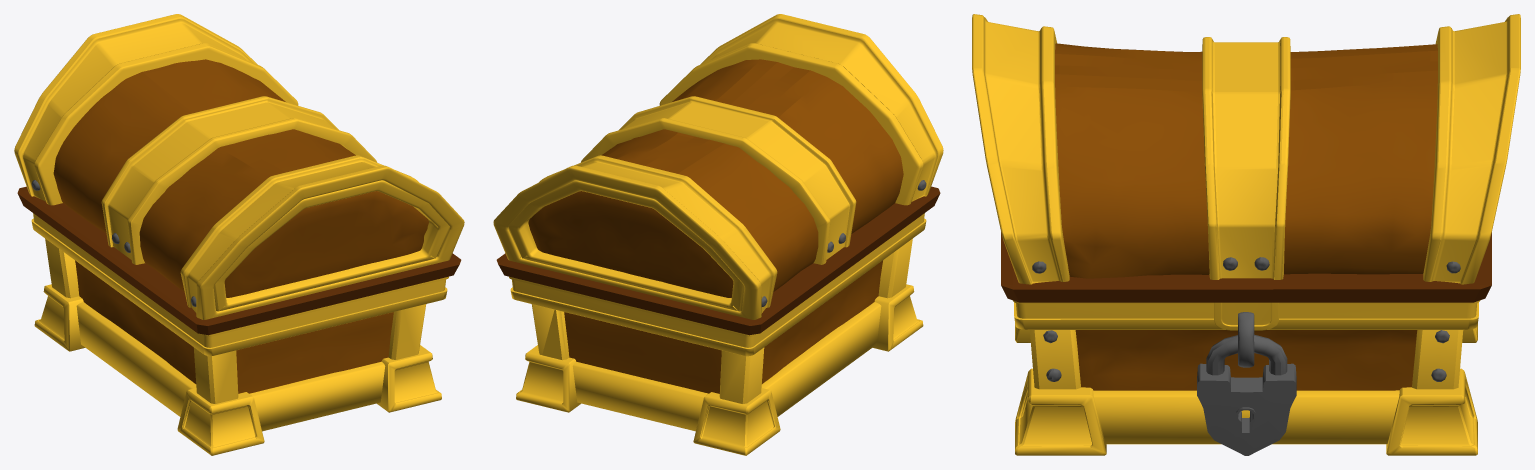
File: Forziere.fbx
3 views of the same model, side by side, from view 1: azimuth 30°, elevation 25°; view 2: azimuth 150°, elevation 25°; view 3: azimuth 270°, elevation 25° (orthographic). The views are drawn at different scales.
Visible parts, largest first — view 1: baule; view 2: baule; view 3: baule.
Boxes of the visible parts, <box> form: baule: <box>14,14,464,455</box>; baule: <box>493,14,943,455</box>; baule: <box>972,14,1520,455</box>.
Bounding box in the file's own units: 214 × 197 × 283.
